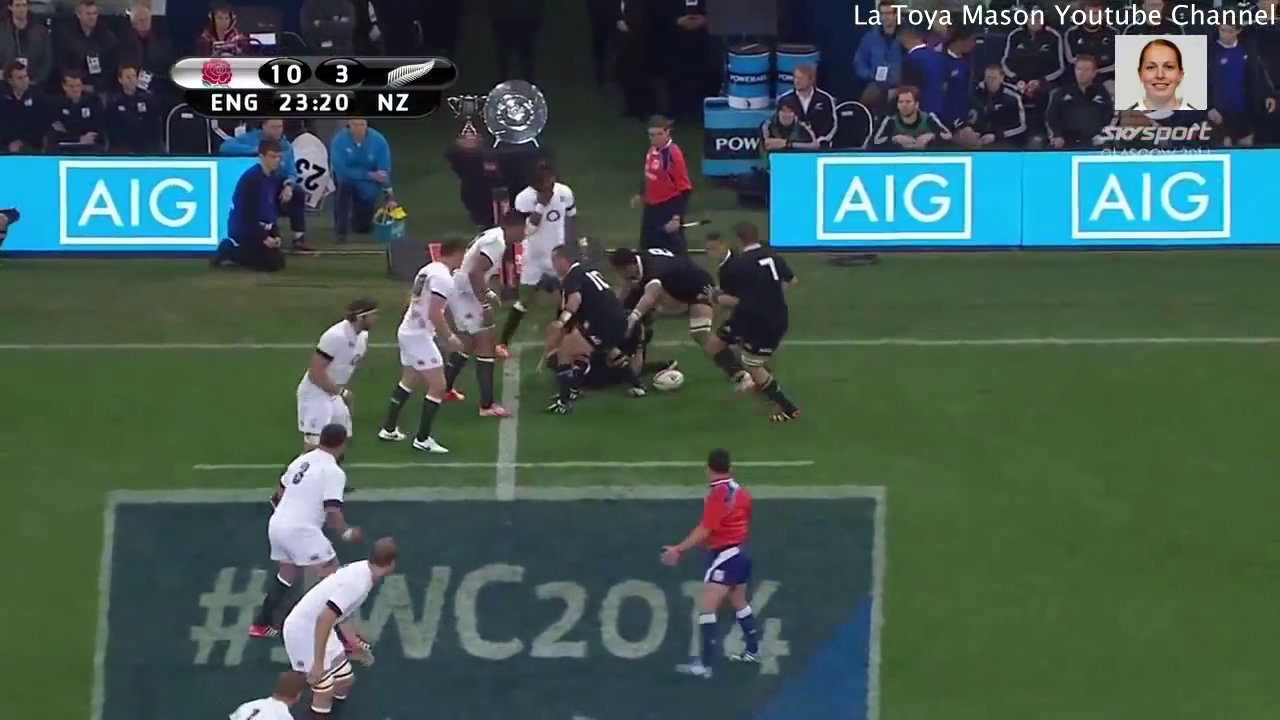ball: (645, 355, 693, 403)
player: (235, 404, 361, 641), (648, 446, 770, 683), (599, 237, 777, 399), (365, 224, 479, 456), (275, 530, 408, 720), (434, 196, 534, 420), (537, 238, 653, 420), (286, 280, 389, 468), (724, 216, 813, 430), (497, 150, 579, 373), (213, 656, 318, 720), (698, 224, 735, 327)
